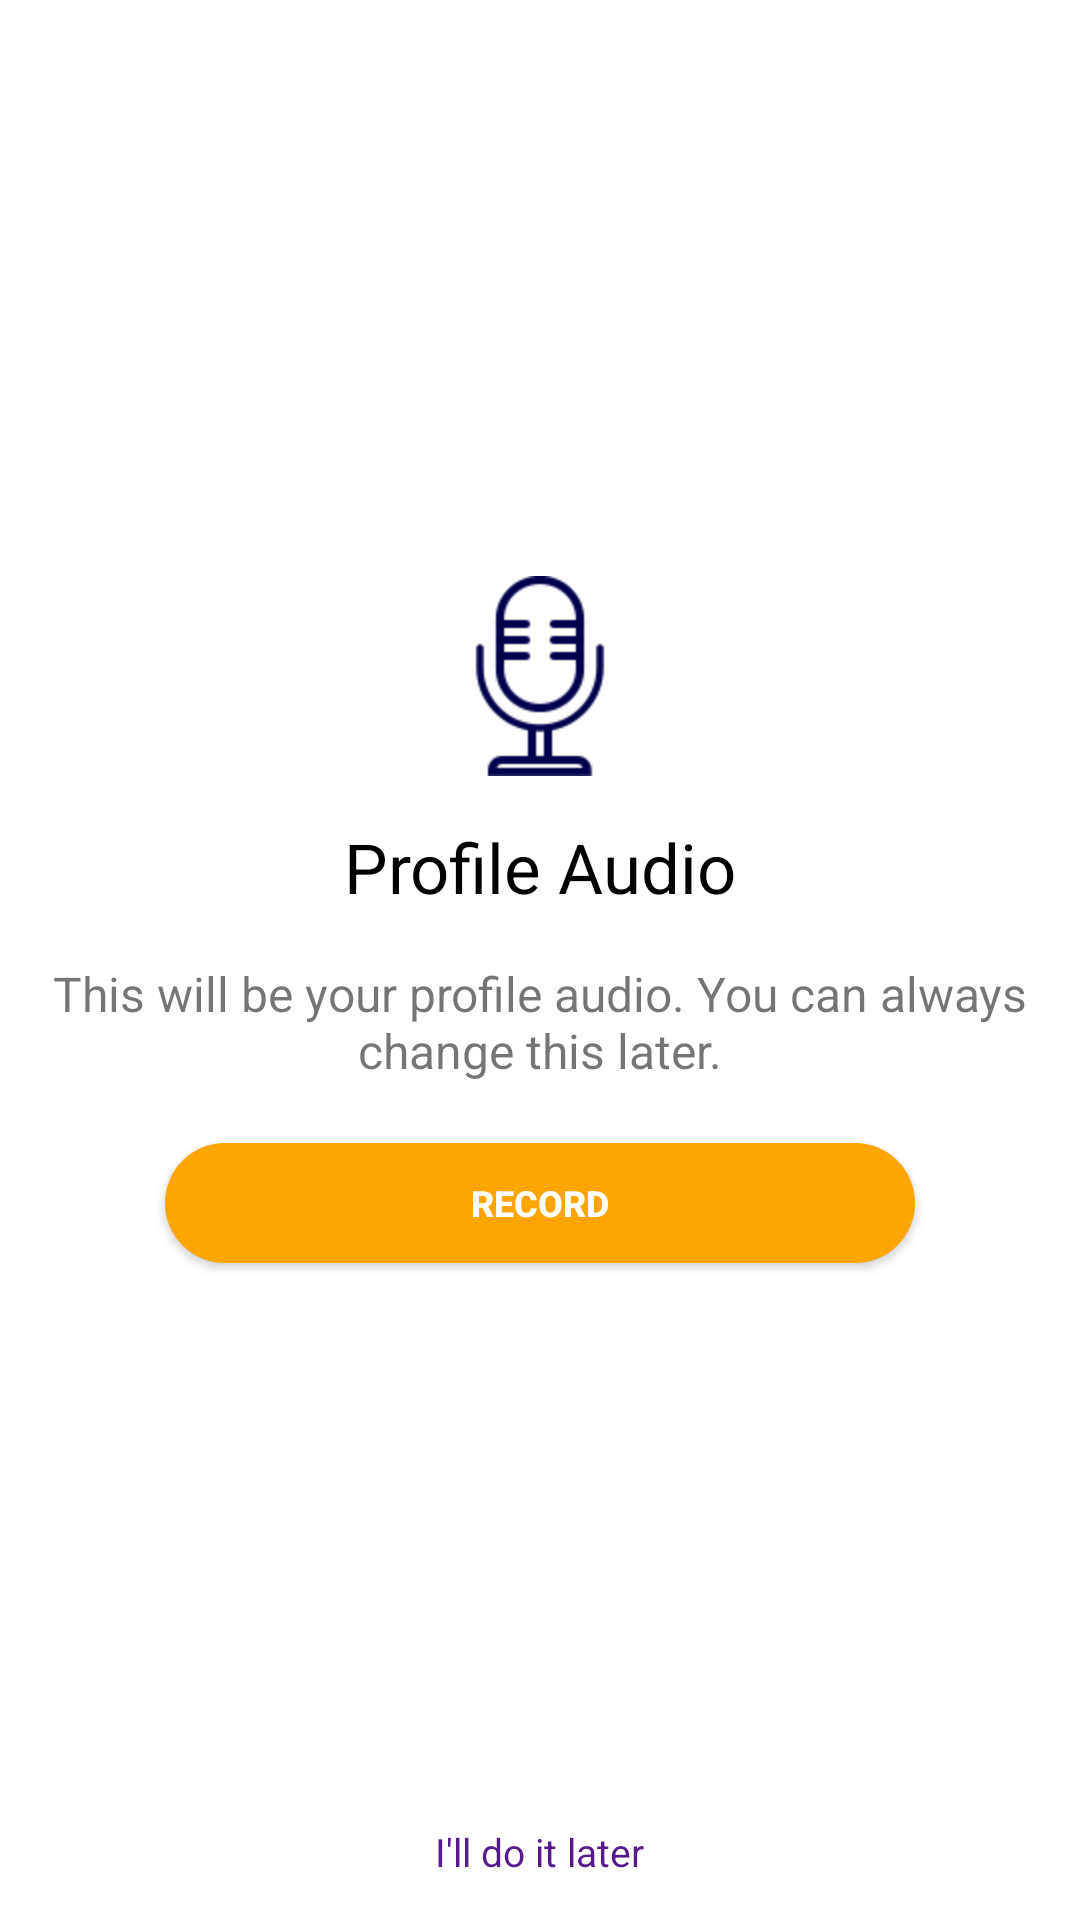

Named icons in this screenshot (1080 x 1920) and their centers, (x=x, y=y):
mic: (x=540, y=676)
